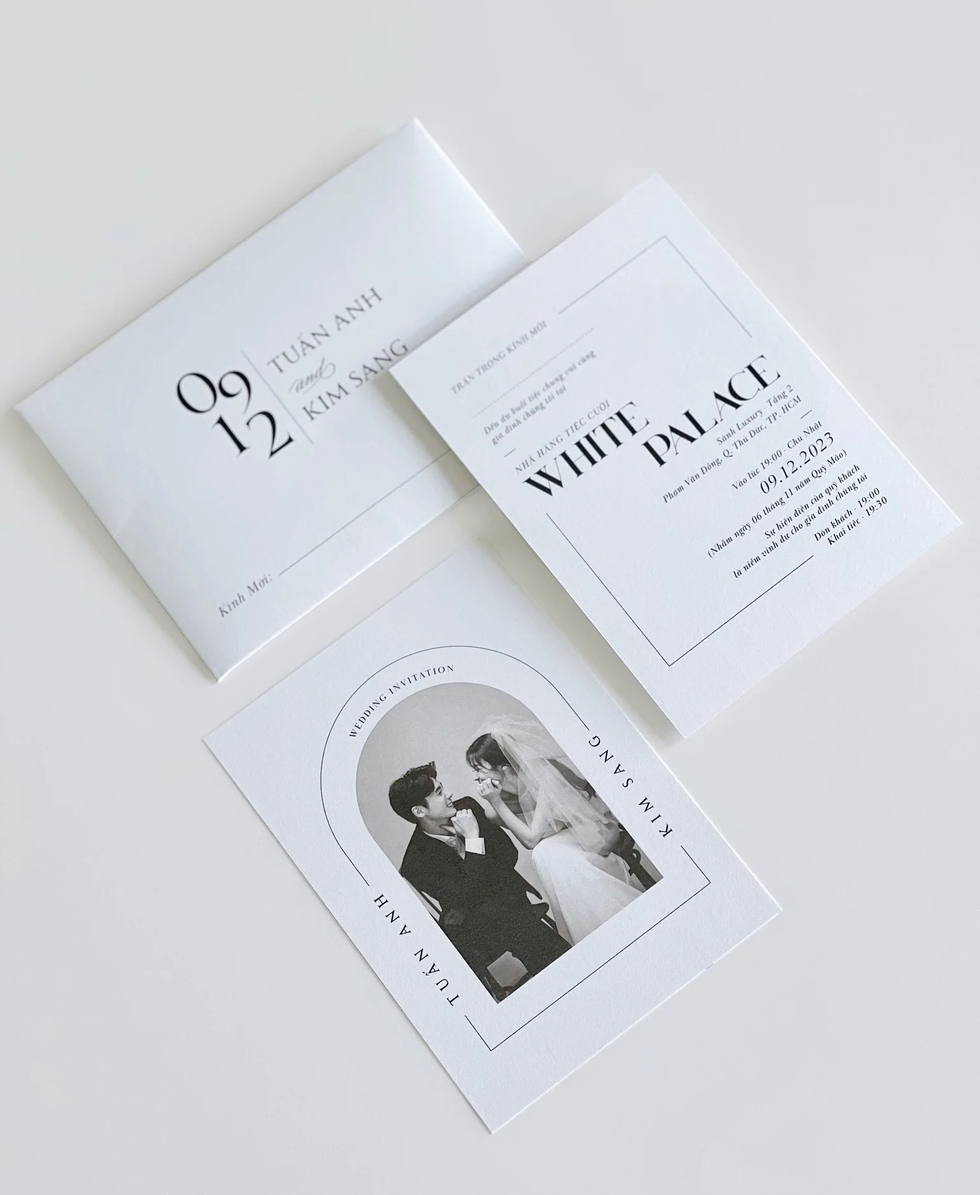paper: (13, 113, 966, 1141)
